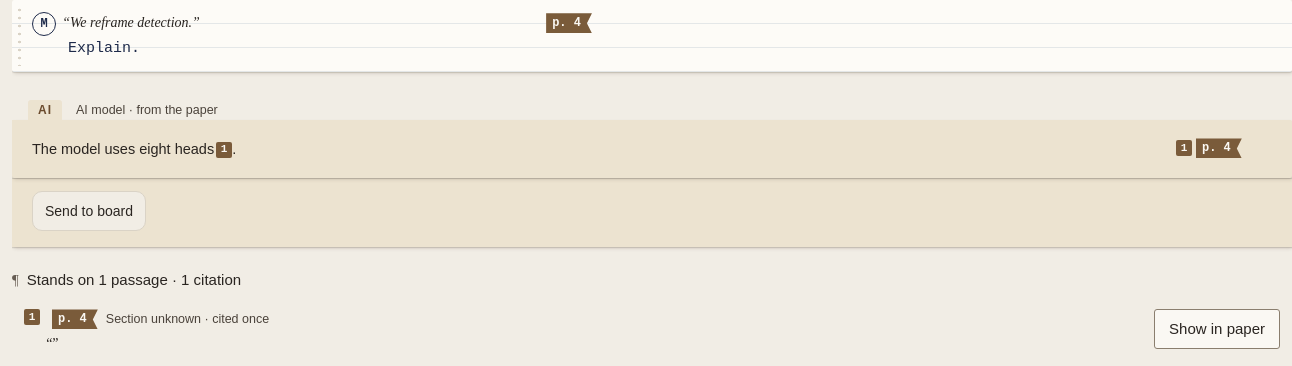
“board”, never “canvas”, around the board (#214) › the explain panel’s Send to board, sent and failed
What coordinates should you click on to do the following:
click the button "Send to board"
I would click on:
 (89, 211)
Its box is 32,191 -> 146,231.
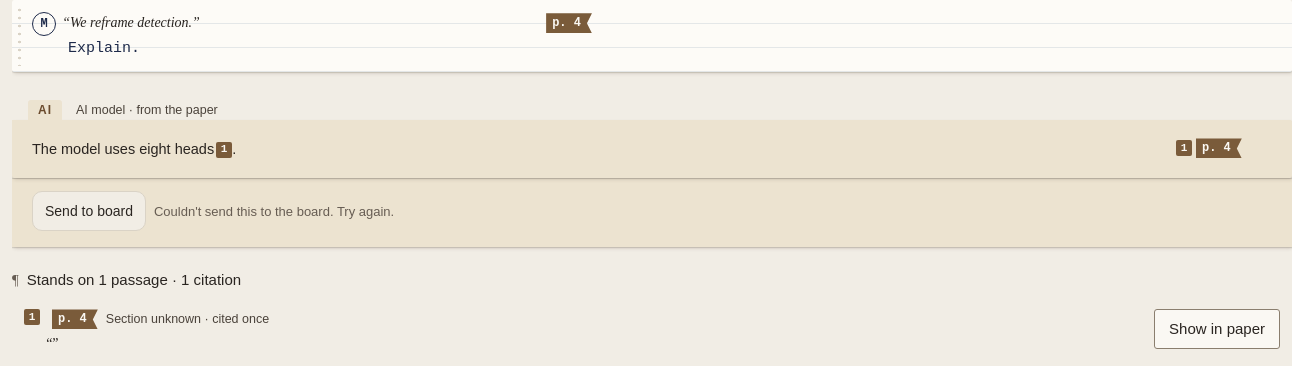
Expected: the message reads "Couldn't send this to the board. Try again.", 154,204 -> 394,219
What coordinates should you click on to do the following:
click the button "Send to board"
I would click on:
 (89, 211)
Its box is 32,191 -> 146,231.
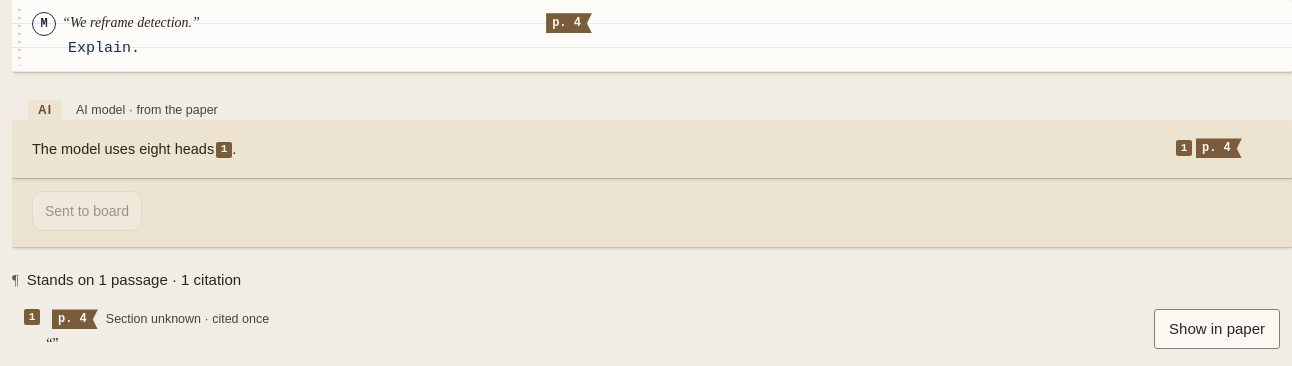
Expected: the button "Sent to board" is shown, 32,191 -> 142,231
